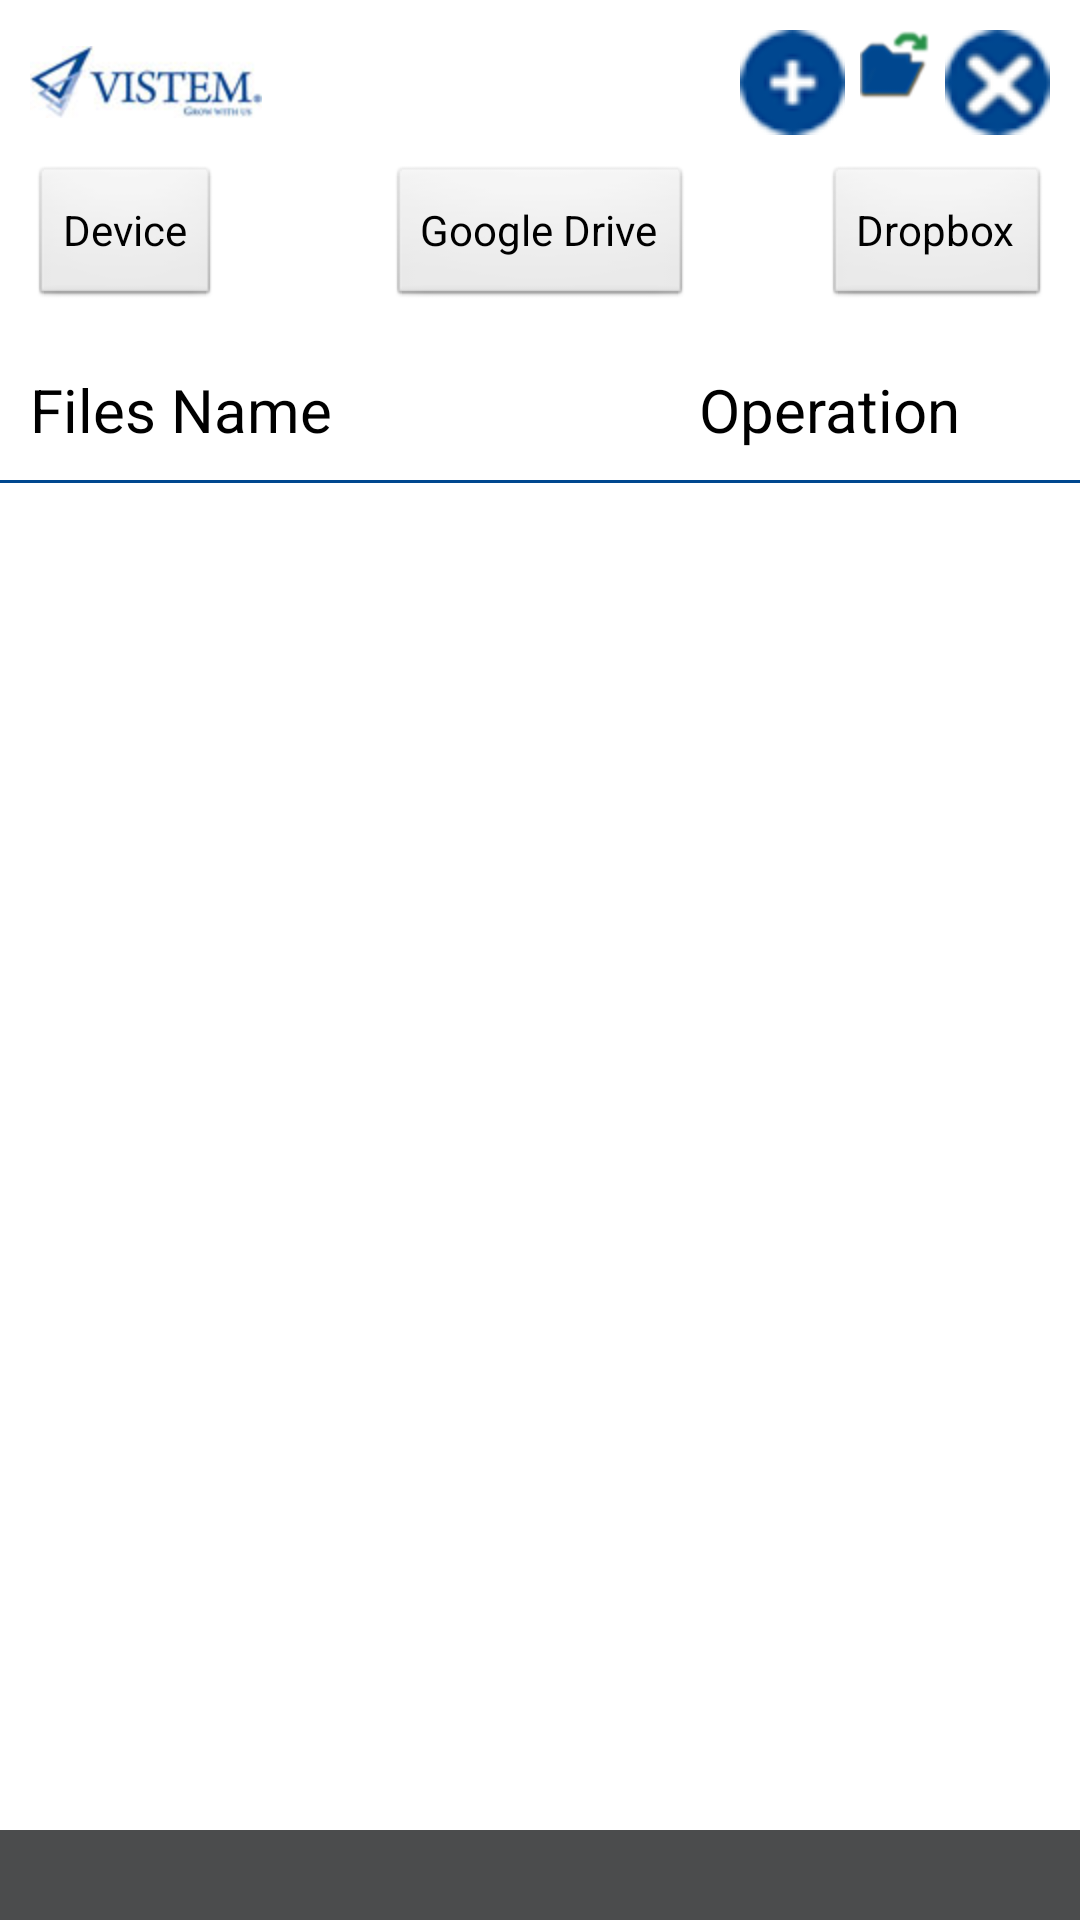

Icons on this 1080 × 1920 Android screen, each with its box as (x1, y1, x2, y2):
closeconflict: (945, 30, 1050, 135)
newconflictbtn: (740, 30, 845, 135)
openconflictbtn: (860, 32, 929, 98)
